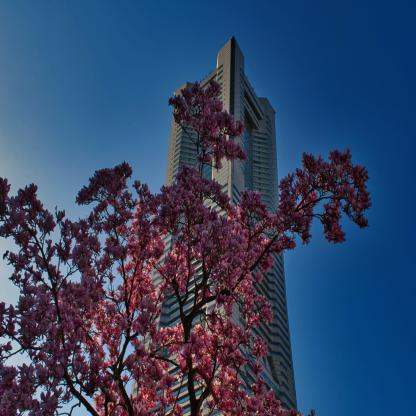Mokuren: (0, 80, 373, 416)
